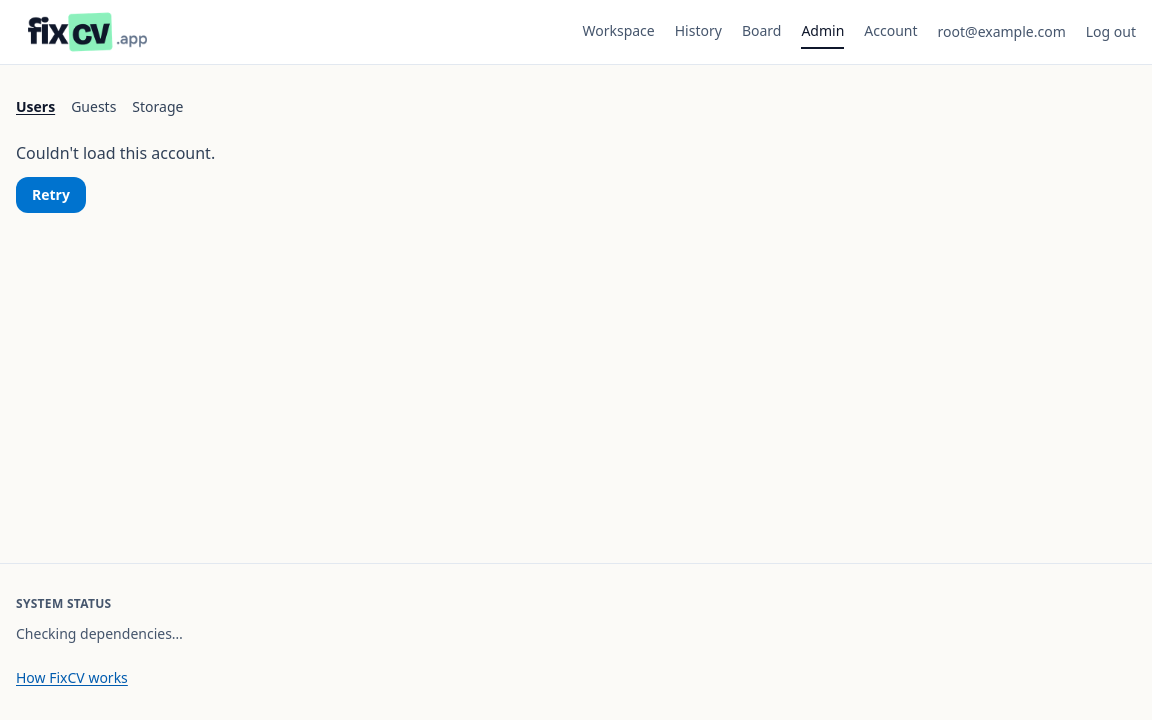
Test: /admin/users/:userId — AC-33 › error: an alert with Retry; Retry refetches and shows the overview
Check: the message shows "Couldn't load this account.", box [16,142,215,164]
Click the button "Retry" at (51, 195), box [16,177,86,213]
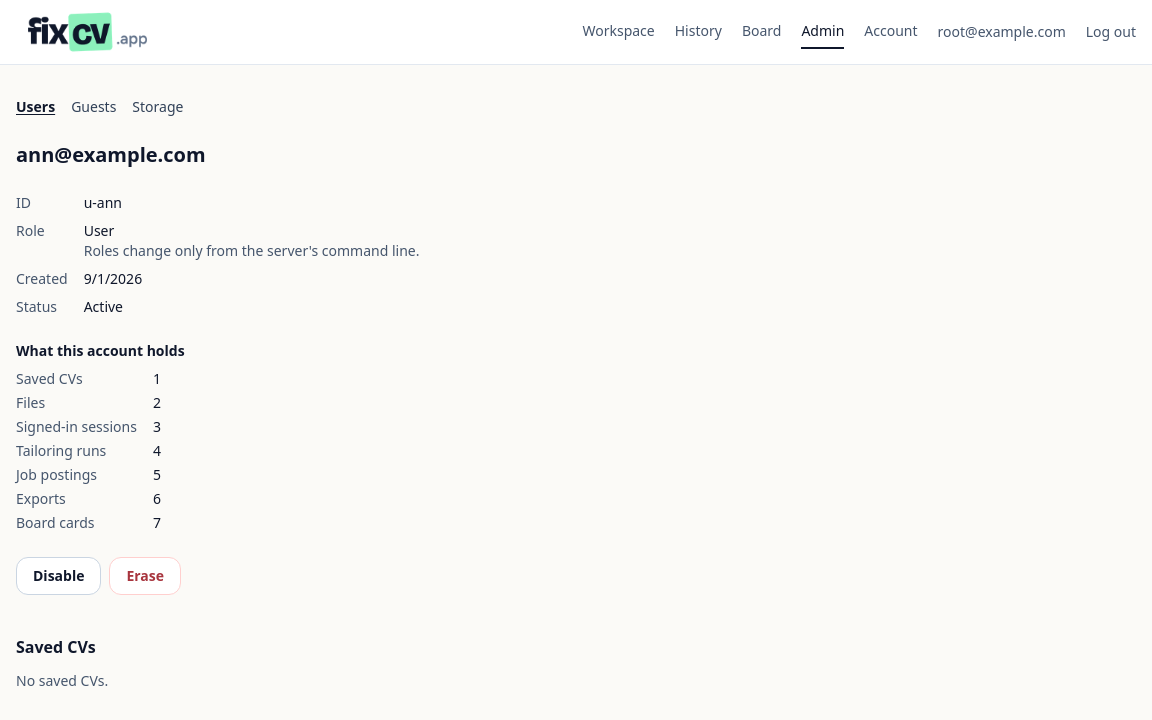
Check: the heading "ann@example.com" is shown, box [16,141,206,168]
